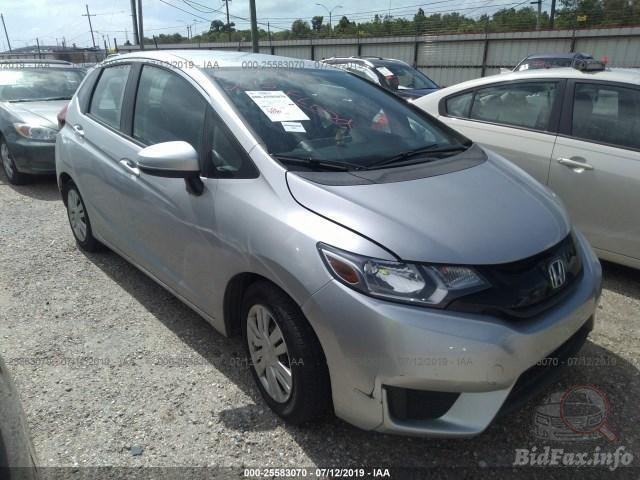Hatchback: (50, 37, 600, 449)
